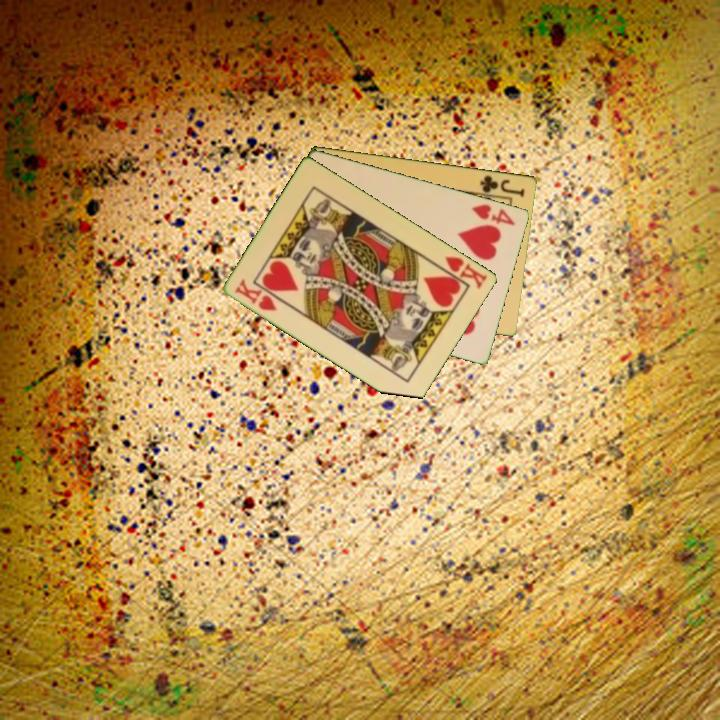4h: (469, 200, 518, 228)
Jc: (477, 171, 528, 199)
Kh: (434, 252, 491, 292), (232, 275, 280, 314)
